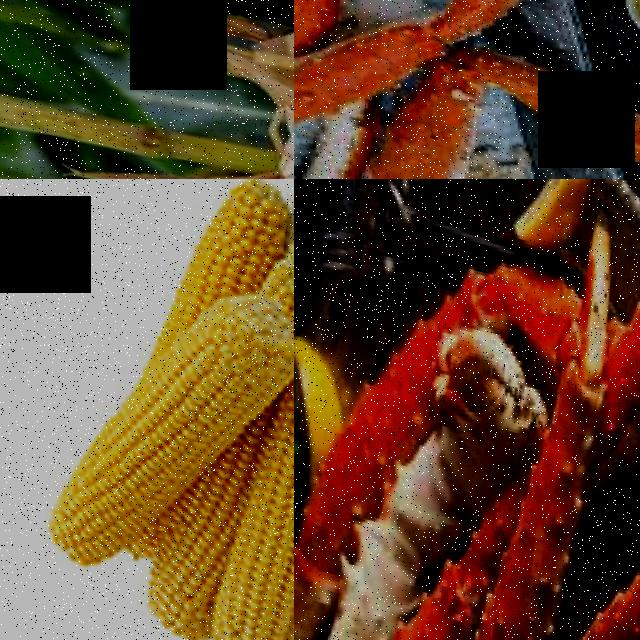corn: (16, 394, 188, 584), (126, 274, 294, 462), (115, 444, 252, 640), (180, 431, 294, 640), (165, 179, 294, 304), (261, 267, 294, 466)
crab: (294, 304, 622, 640), (488, 194, 640, 640), (333, 12, 544, 179), (294, 0, 446, 178)
